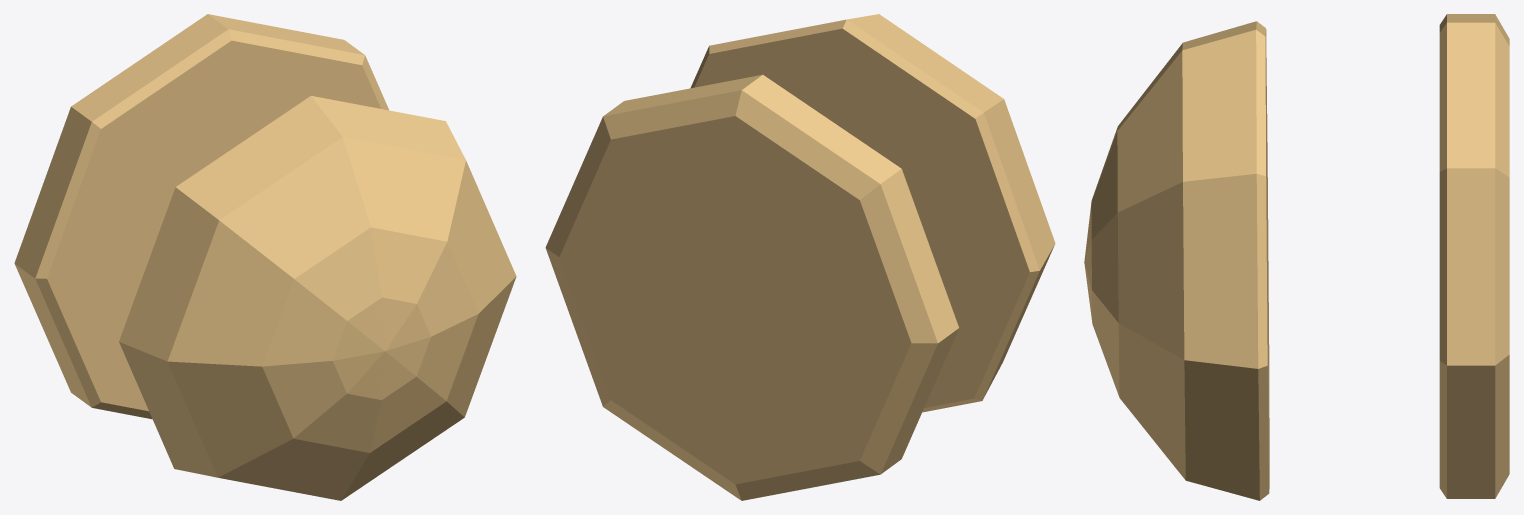
File: buns.glb
The picture shows the model from 3 angles, left to right: view 1: azimuth 30°, elevation 25°; view 2: azimuth 150°, elevation 25°; view 3: azimuth 270°, elevation 25°; orthographic projection. The views are drawn at different scales.
Visible parts, largest first — view 1: buffer_0_mesh_0_prim3; view 2: buffer_0_mesh_0_prim3; view 3: buffer_0_mesh_0_prim3.
Part boxes in pixels (bbox=[...]): buffer_0_mesh_0_prim3: bbox=[14, 14, 516, 500]; buffer_0_mesh_0_prim3: bbox=[545, 14, 1055, 500]; buffer_0_mesh_0_prim3: bbox=[1084, 14, 1509, 500].
Bounding box in the file's own units: 12.1 × 12.15 × 9.97.
